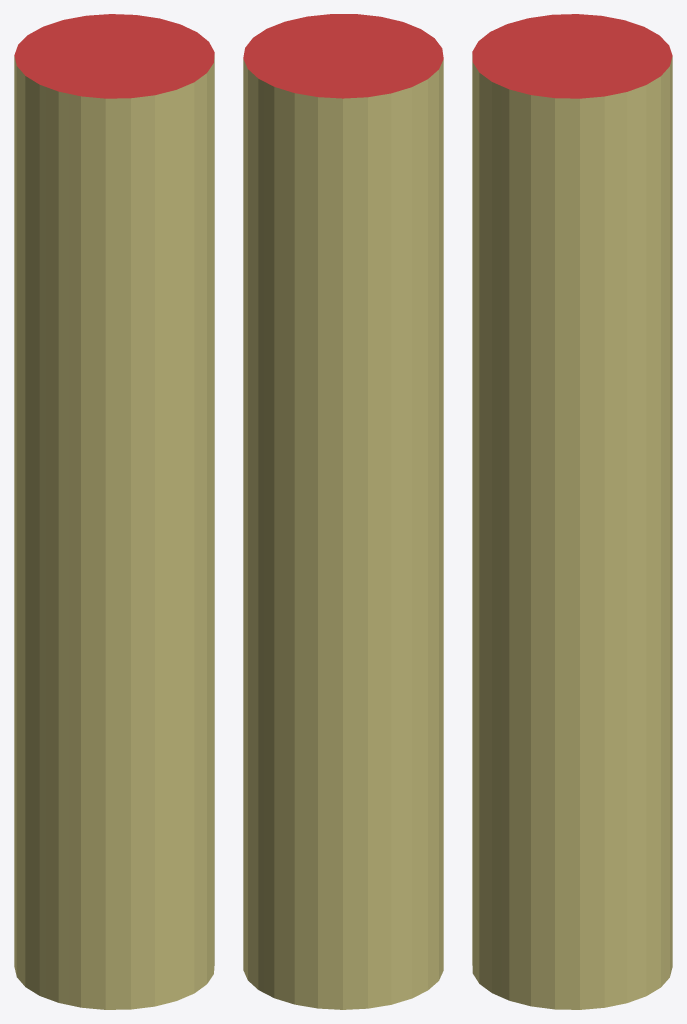
The picture shows the model from 3 angles, left to right: view 1: azimuth 30°, elevation 25°; view 2: azimuth 150°, elevation 25°; view 3: azimuth 270°, elevation 25°; orthographic projection.
Size of the model in its own units: 3.31 by 3.31 by 16.6.
